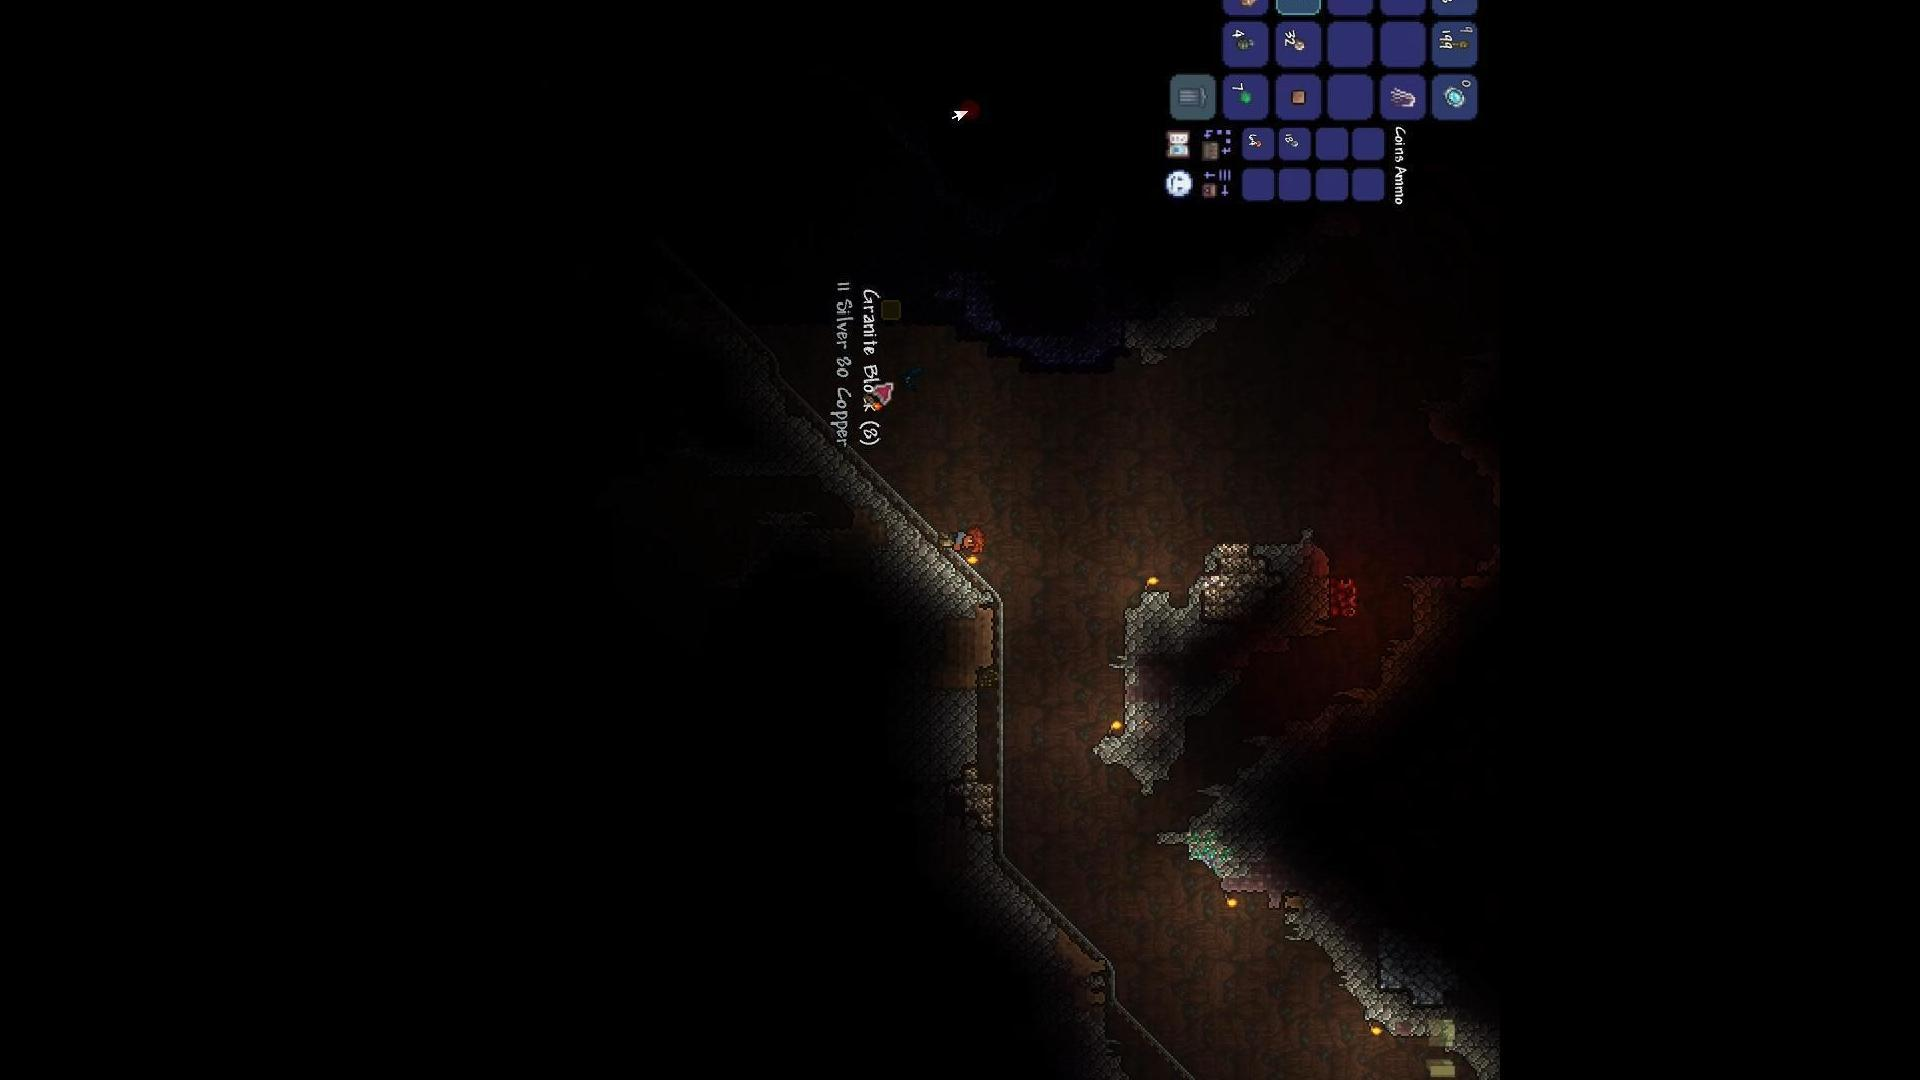altar: (1319, 560, 1369, 638)
